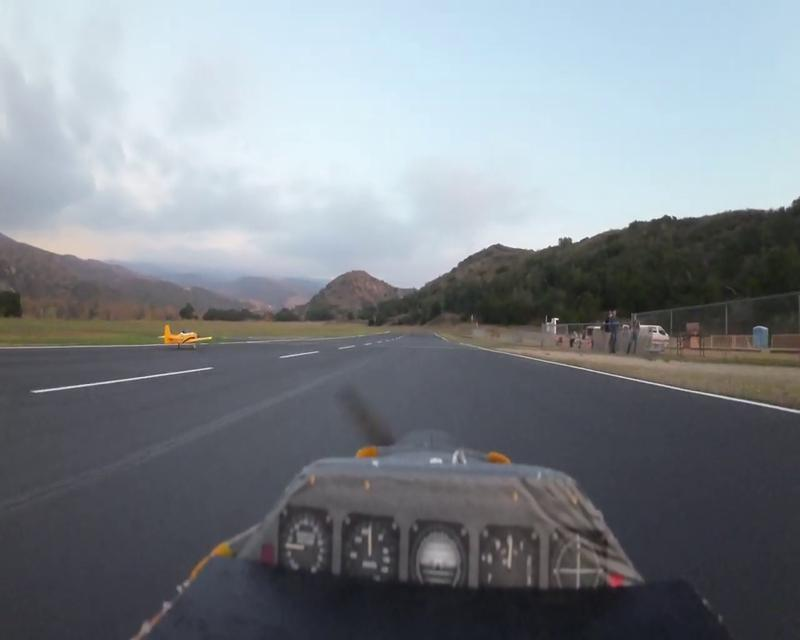UAV: (156, 324, 212, 351)
